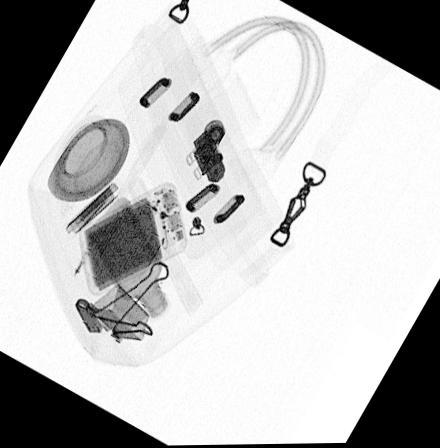Powerbank: (75, 183, 187, 296)
